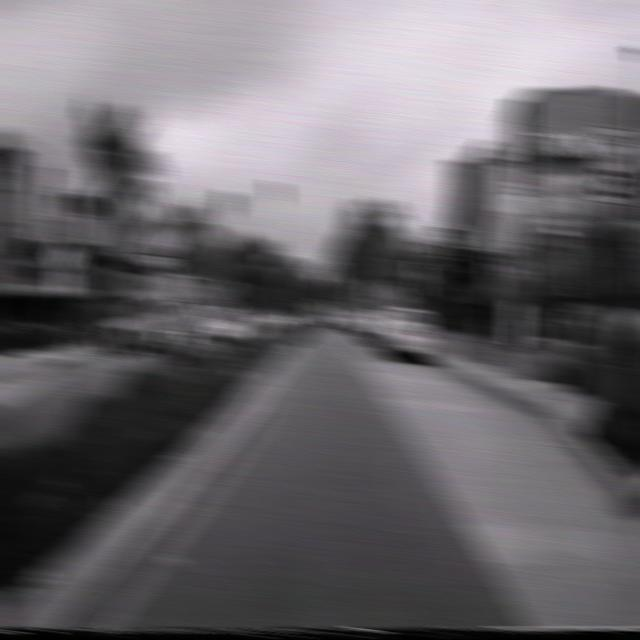speedLimit25: (590, 122, 637, 208)
